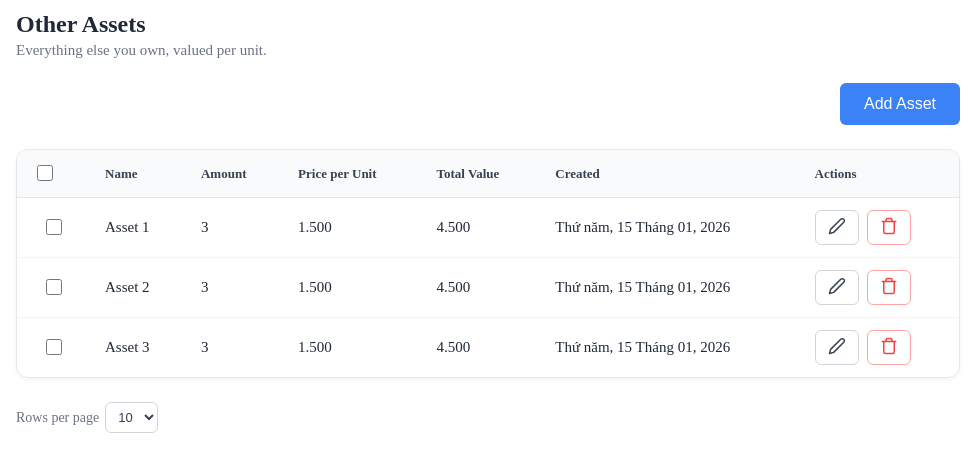
Test: OtherAssets › bulk-deletes the selection after confirmation and clears it
Expected: the text "Asset 1" is shown, [89,198,185,258]
Click the checkbox named "Select row 1".
click(54, 227)  # box [46,219,62,235]
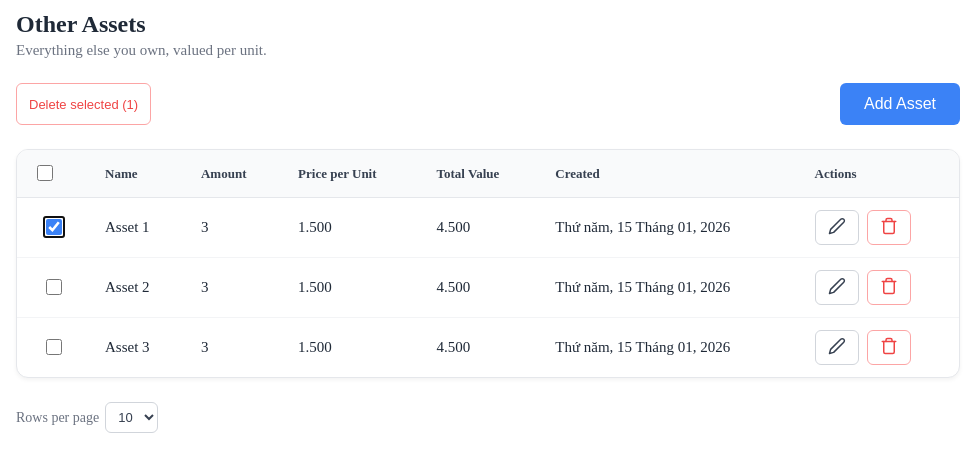
Click the checkbox named "Select row 3".
click(54, 347)  # box [46,339,62,355]
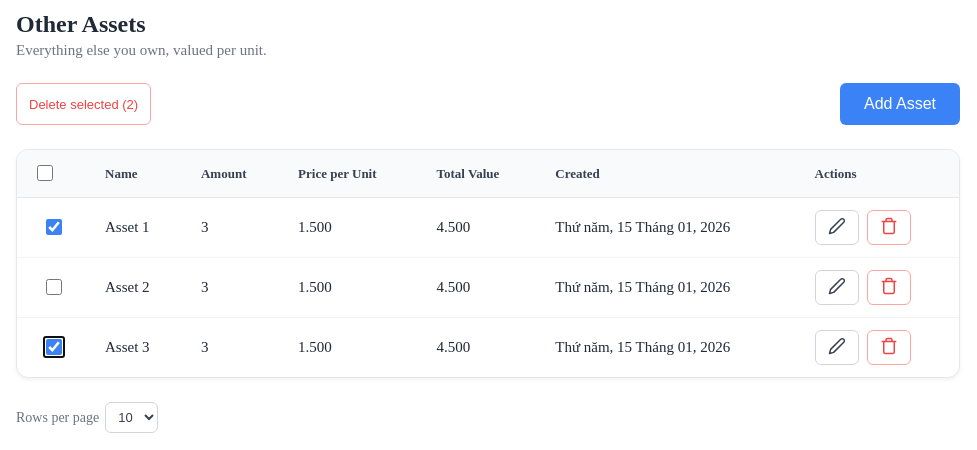
Result: the button "Delete selected (2)" is shown
Click the button "Delete selected (2)".
click(84, 104)  # box [16,83,151,125]
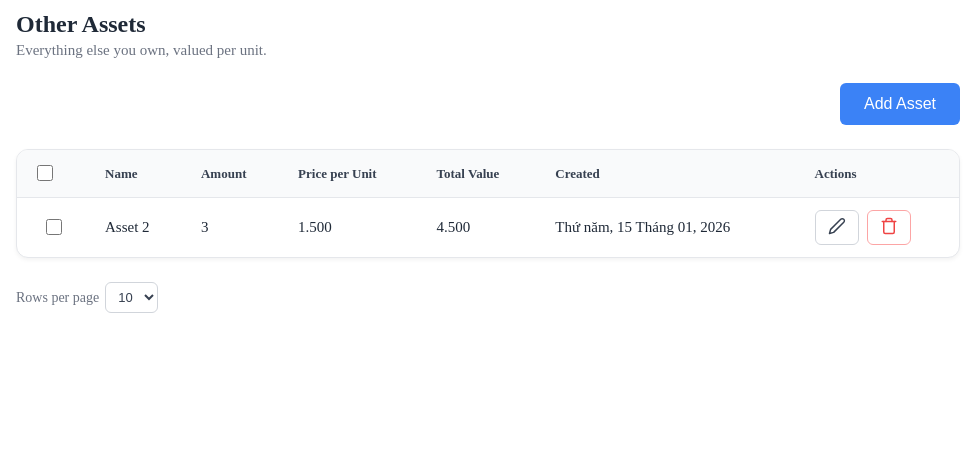
Expected: the text "Asset 2" is shown, [89,198,185,257]
Result: the text "Asset 1" is gone
Result: the button "Delete selected (2)" is gone
